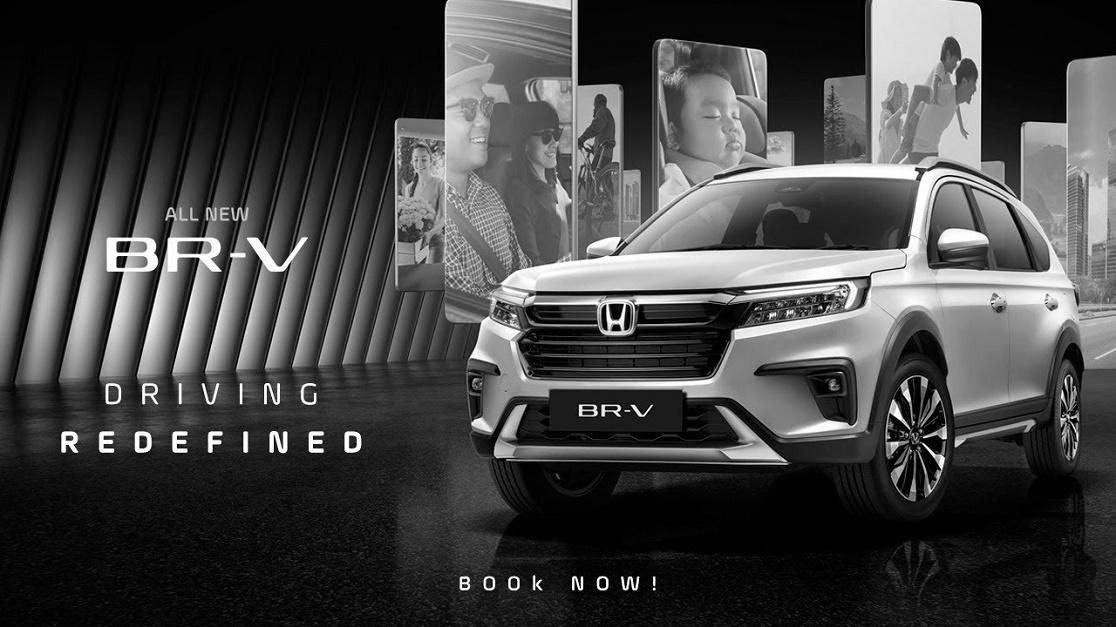Car hood: (500, 242, 910, 302)
Fender - -F-L-: (867, 238, 949, 349)
Front bumper: (462, 305, 898, 477)
Headlight - -L-: (737, 272, 869, 336)
Headlight - -R-: (489, 287, 540, 336)
Passenger-s door - -F-L-: (921, 156, 1020, 459)
Passenger-s door - -R-L-: (963, 159, 1070, 457)
Side bumper - -L-: (946, 390, 1071, 469)
Side mirror - -L-: (929, 224, 991, 274)
Side mirror - -R-: (583, 231, 622, 263)
